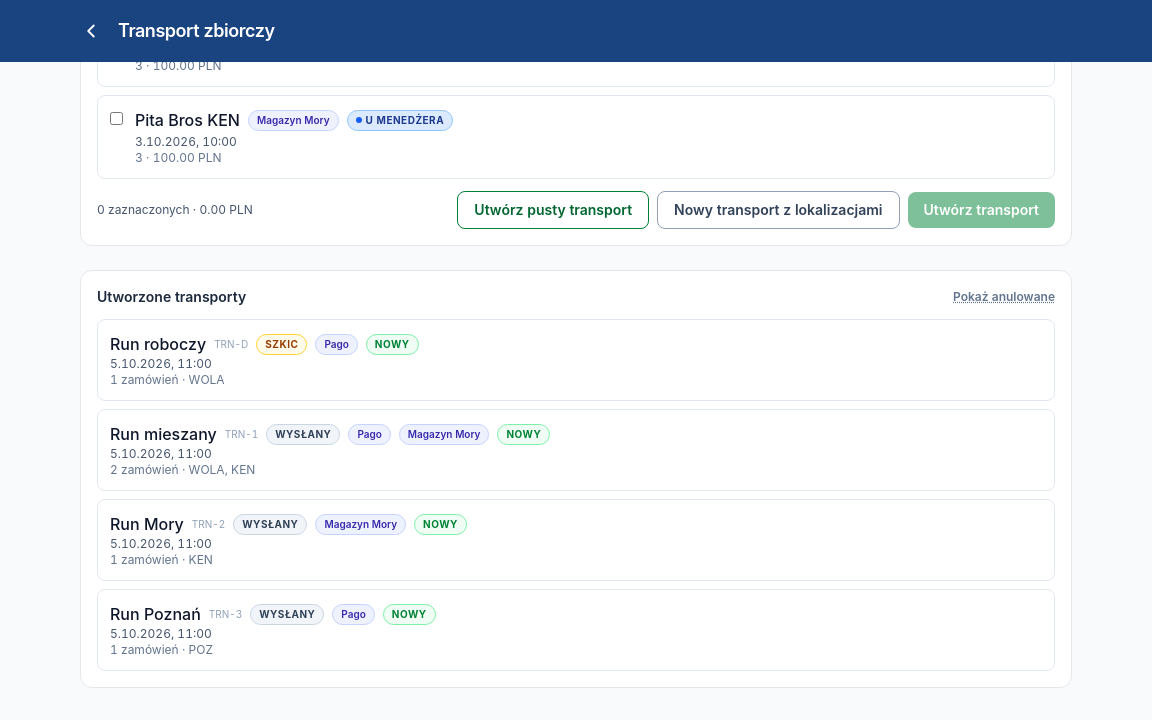
Test: TransportPage — send panel wiring › the configured order mailbox reaches the confirmation card
The width and height of the screenshot is (1152, 720).
(page scrolled)
Click the button "Run roboczy".
click(158, 344)  # box x1=97 y1=319 x2=1055 y2=401
(page scrolled)
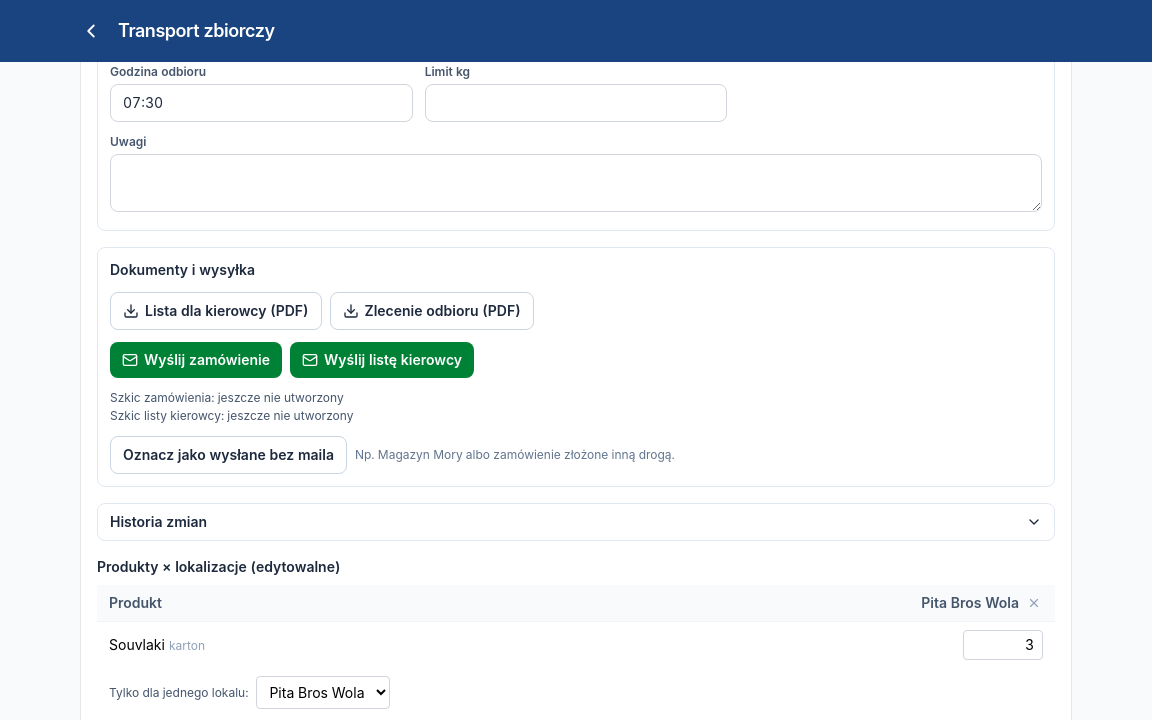
Click the button "Wyślij zamówienie".
click(196, 360)  # box x1=110 y1=342 x2=282 y2=378
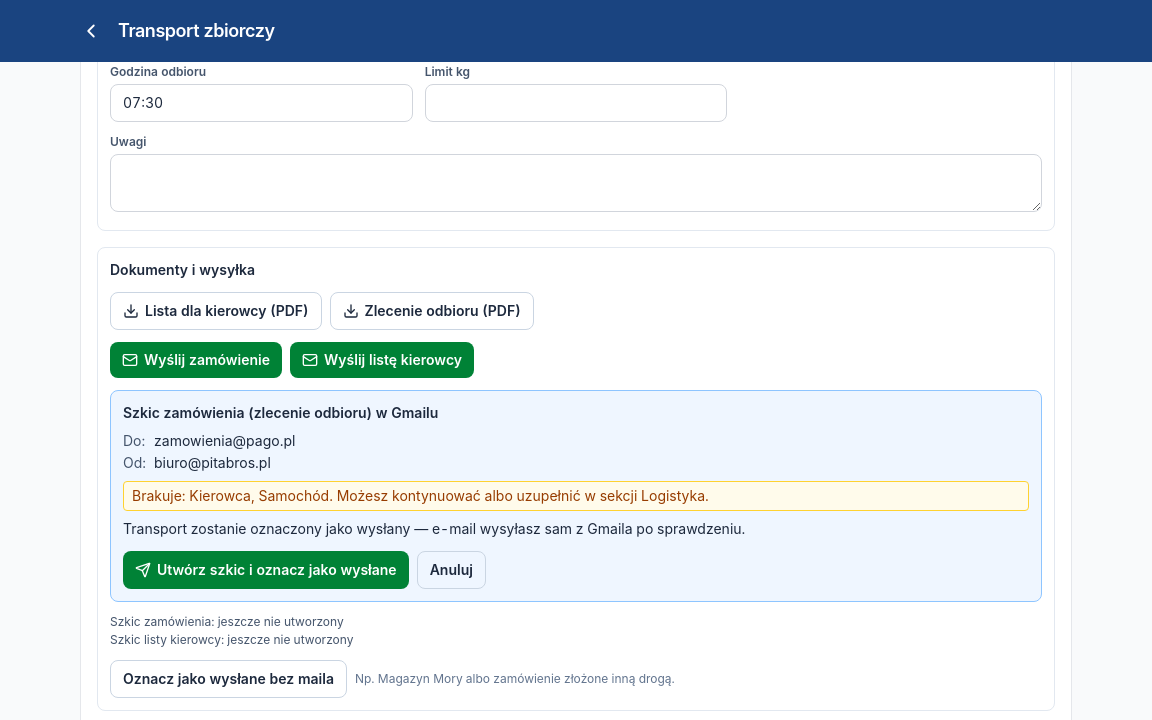
Check: the text "biuro@pitabros.pl" is shown, box x1=154 y1=454 x2=271 y2=471
